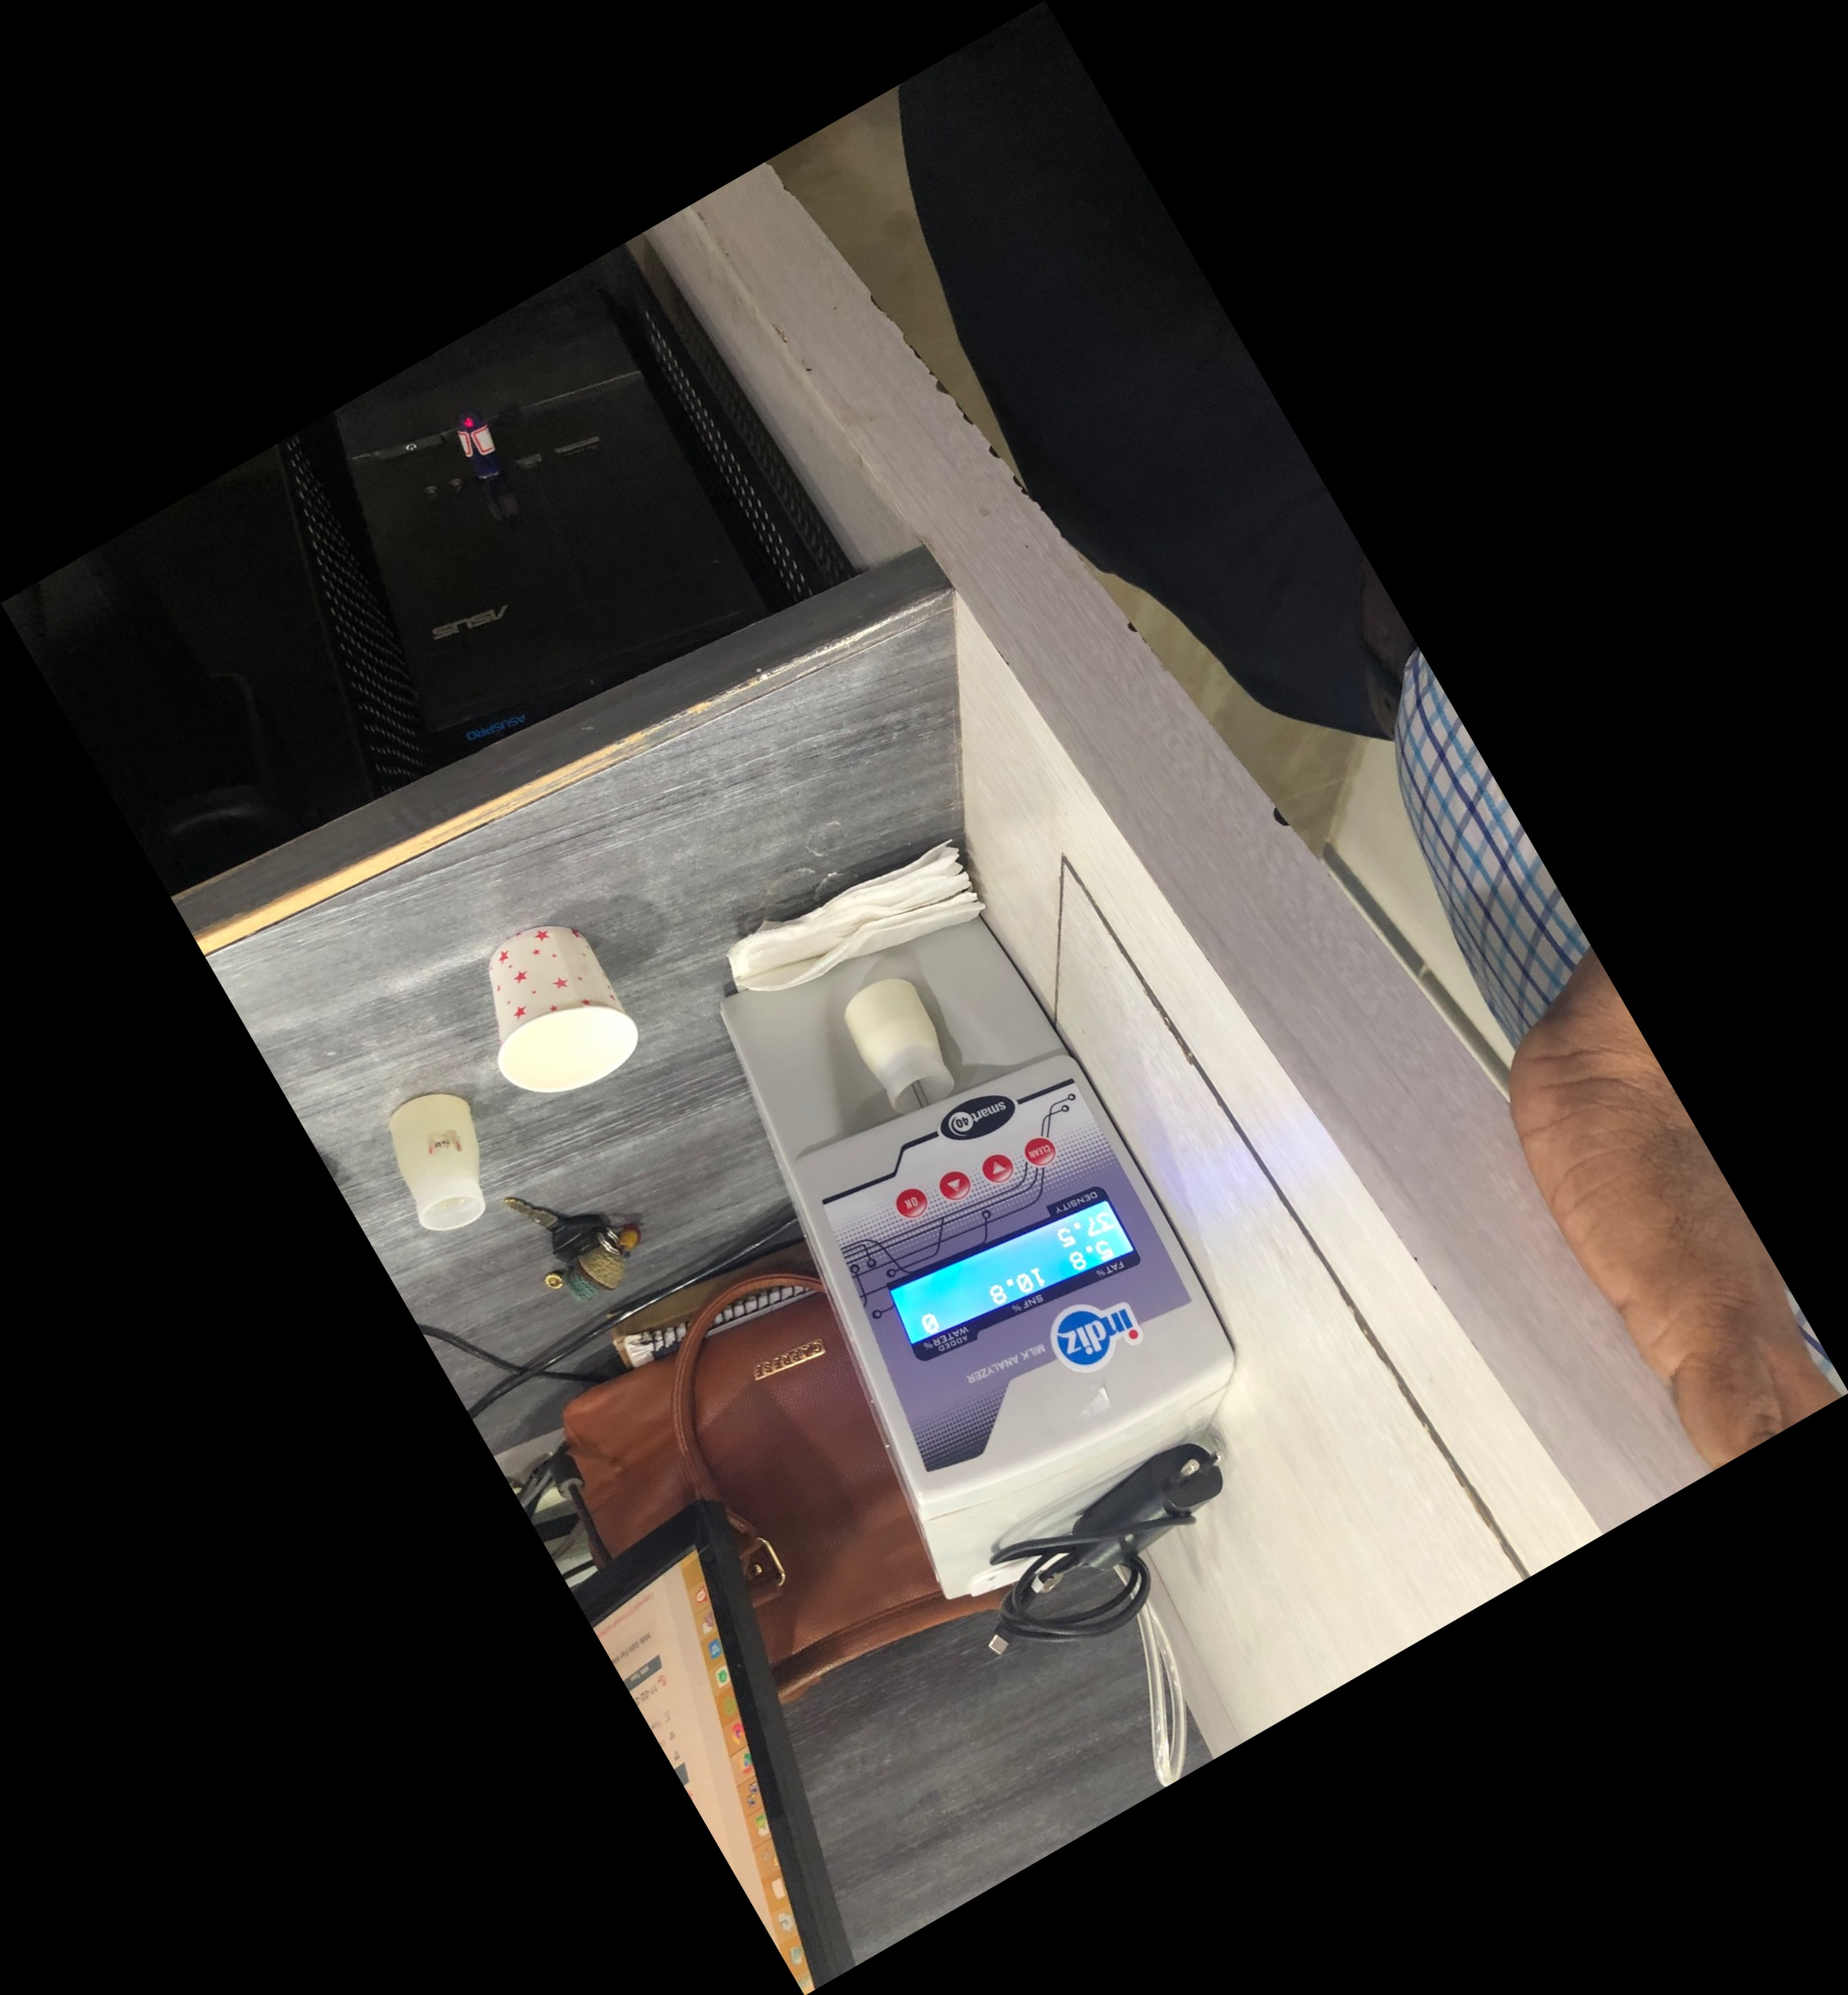lcd: (877, 1178, 1152, 1362)
